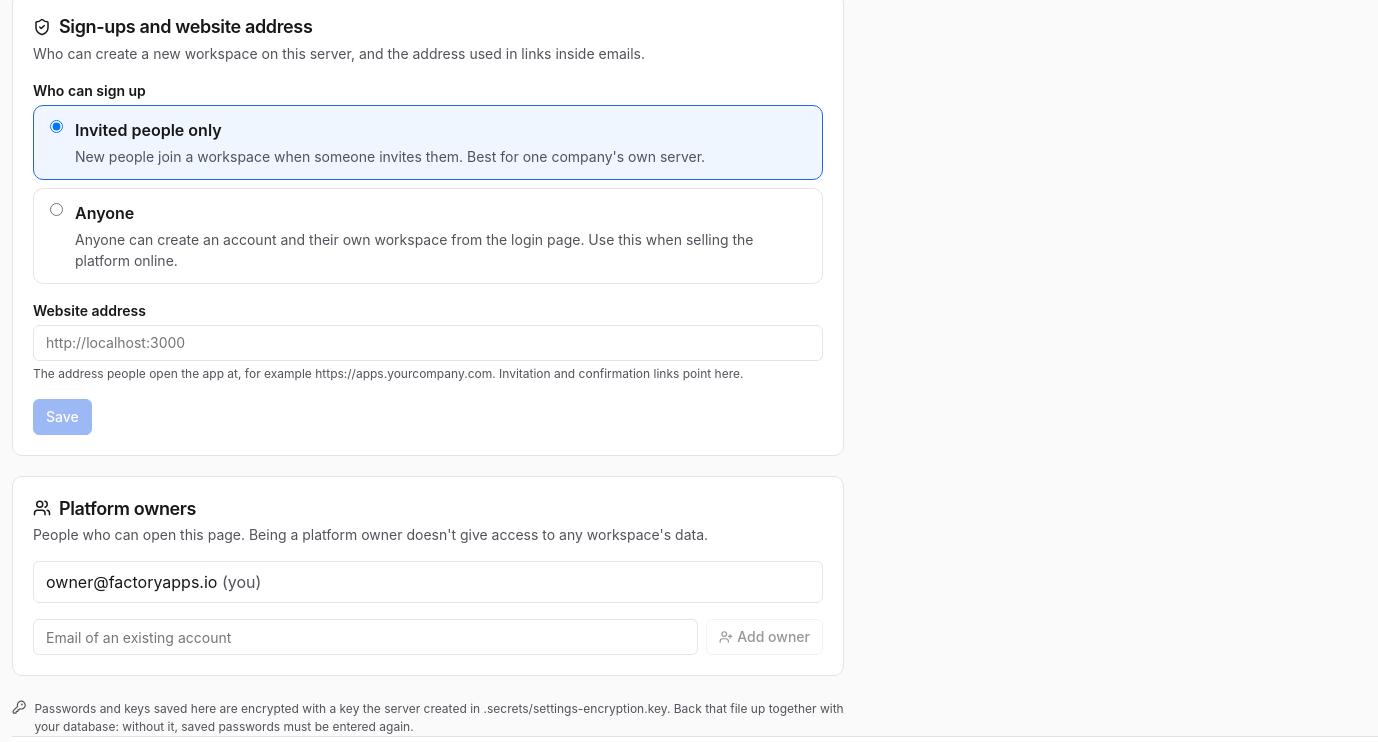
Platform setup screen › adds another platform owner; the only owner cannot be removed
(page scrolled)
expect the text "(you)" is shown: met, box [217,572,261,592]
Step 1. Type "ops@factoryapps.io" into the field named "Email of the new platform owner" → coordinates (366, 637), box [33,619,698,655]
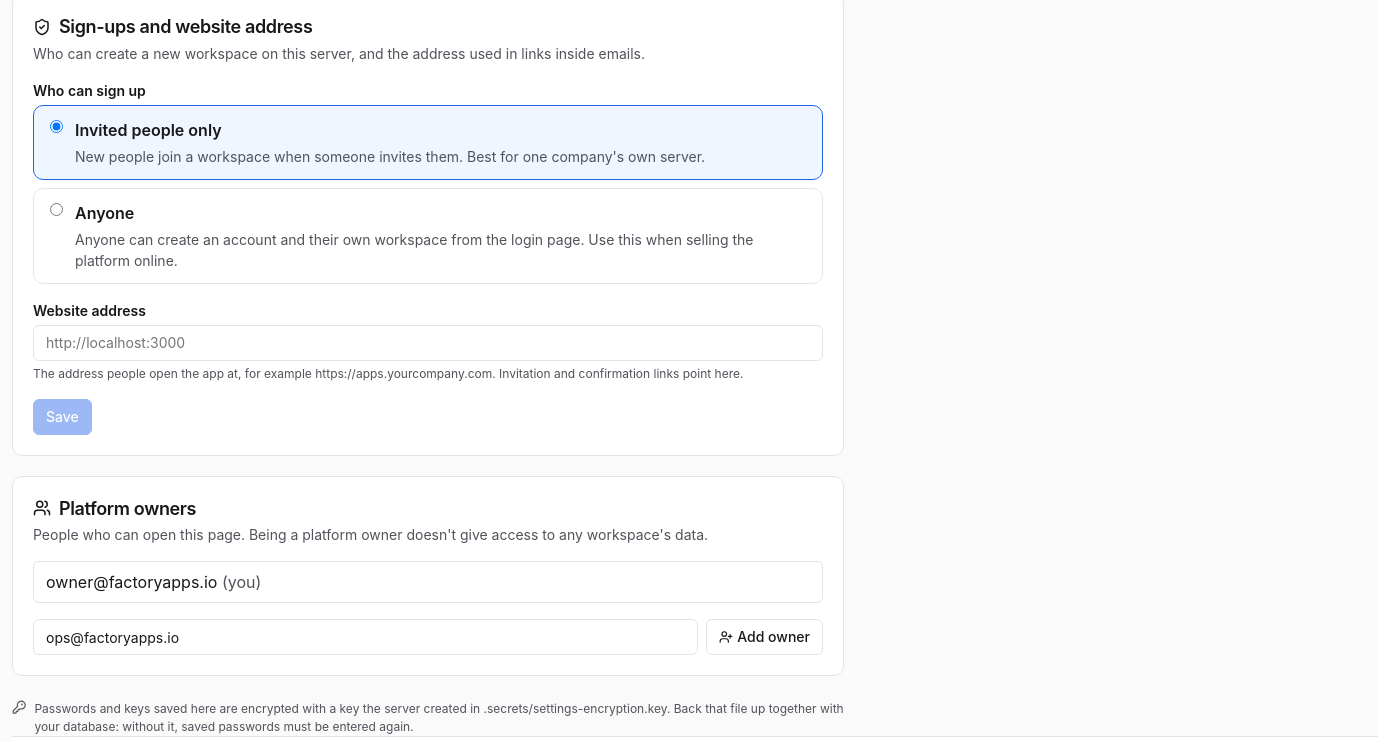
Step 2. Click the button "Add owner" → coordinates (765, 637), box [706,619,823,655]
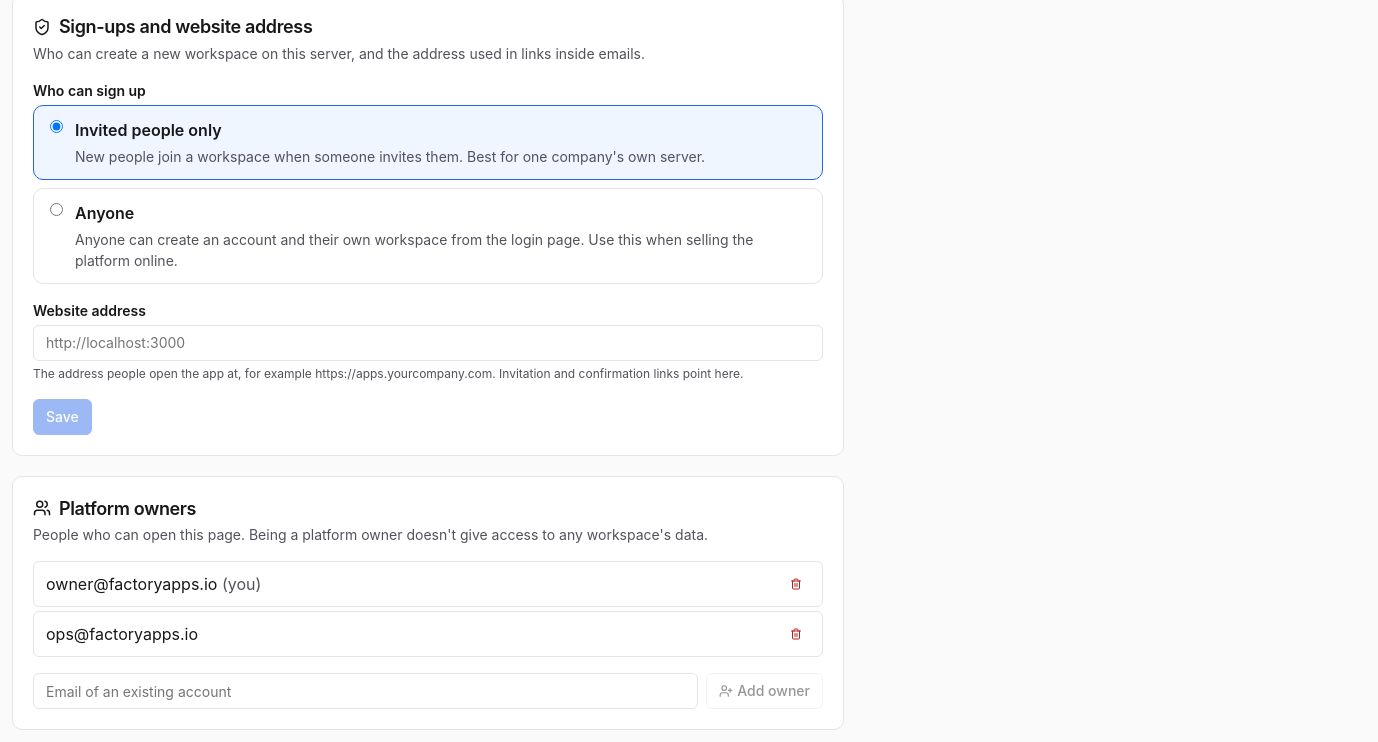
expect the text "ops@factoryapps.io" is shown: met, box [46,622,198,646]
expect the button named "Remove ops@factoryapps.io" is shown: met, box [782,620,810,648]
